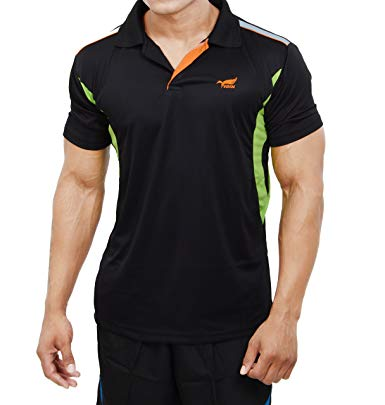T-Shirt: (60, 6, 337, 344)
